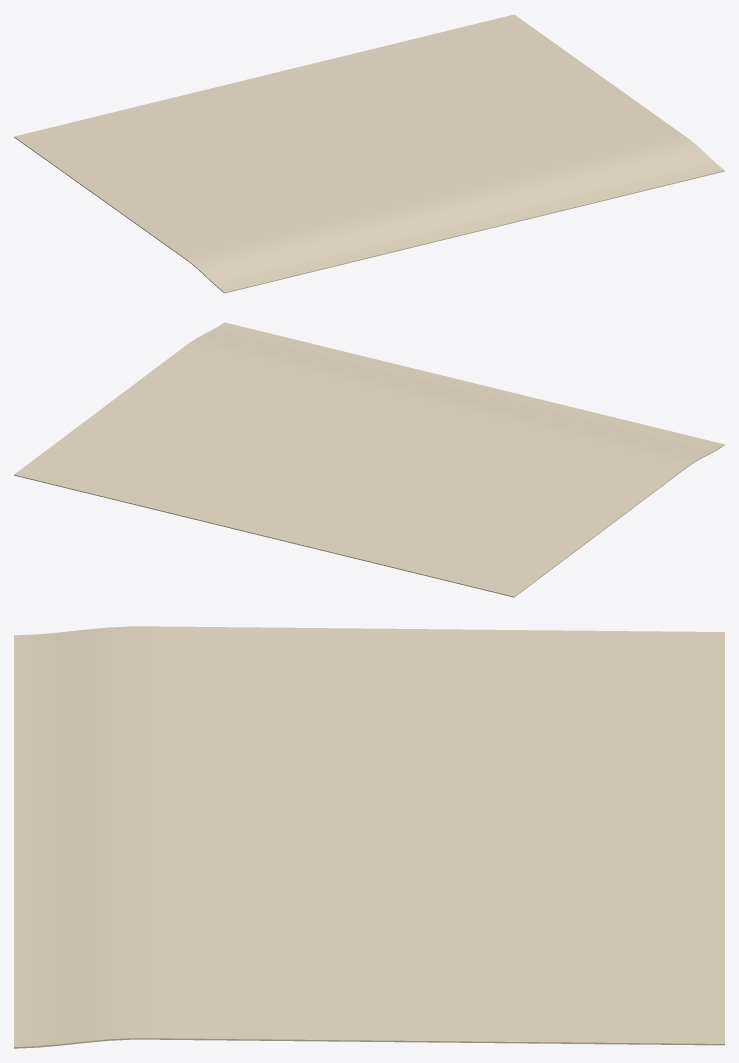
File: SM_Grimoire_TurnPage.fbx
The picture shows the model from 3 angles, top to bottom: view 1: azimuth 30°, elevation 25°; view 2: azimuth 150°, elevation 25°; view 3: azimuth 270°, elevation 25°; orthographic projection. The views are drawn at different scales.
Parts seen in each view (by area): view 1: SM_Grimoire_TurnPage; view 2: SM_Grimoire_TurnPage; view 3: SM_Grimoire_TurnPage.
Part boxes in pixels (box(x1,y1,x2,y2)): SM_Grimoire_TurnPage: box(14, 14, 724, 293); SM_Grimoire_TurnPage: box(14, 322, 724, 597); SM_Grimoire_TurnPage: box(14, 626, 724, 1048).
Size of the model in its own units: 24.4 by 0.2876 by 17.8.
